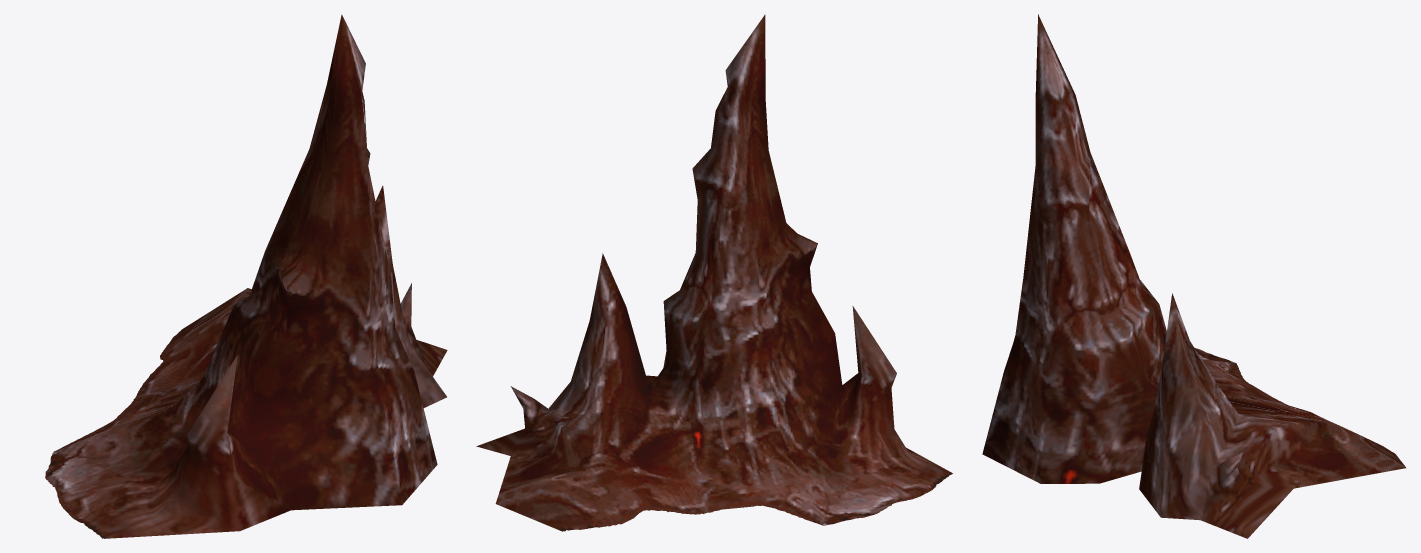
The model's file is hs_shan_28.FBX.
The picture shows the model from 3 angles, left to right: view 1: azimuth 30°, elevation 25°; view 2: azimuth 150°, elevation 25°; view 3: azimuth 270°, elevation 25°; orthographic projection. The views are drawn at different scales.
Visible parts, largest first — view 1: hs_shan_28; view 2: hs_shan_28; view 3: hs_shan_28.
Boxes of the visible parts, bbox=[...] form: hs_shan_28: bbox=[45, 14, 447, 538]; hs_shan_28: bbox=[476, 14, 952, 531]; hs_shan_28: bbox=[982, 14, 1405, 538].
Size of the model in its own units: 353 by 344 by 309.
